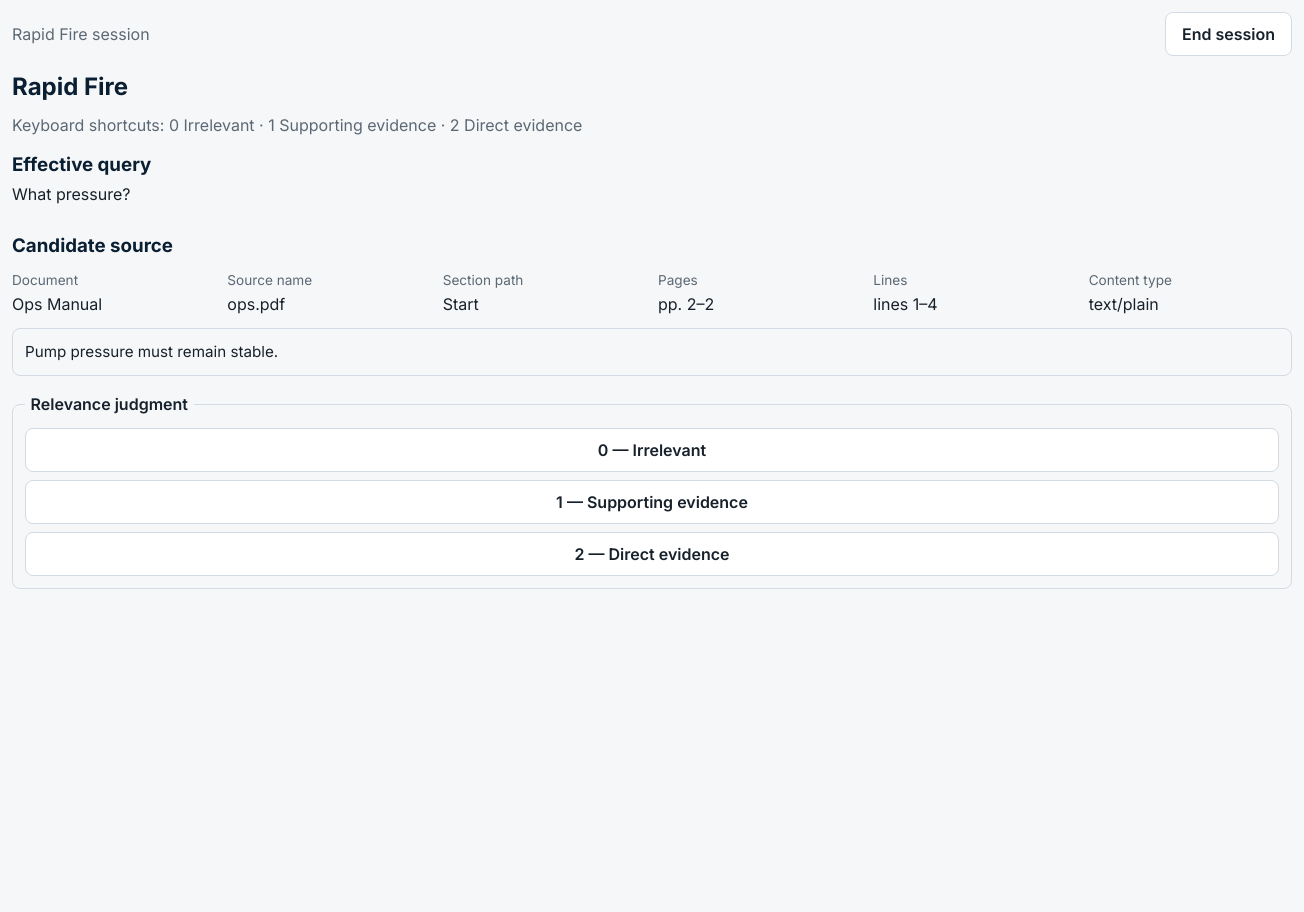
16G-I2-REWORK session latch, retry identity, blocks, QC reset › retries ambiguous commits against the frozen original task endpoint
Check: the text "What pressure?" is shown, box [12,184,130,204]
Click the button "1 — Supporting evidence": (652, 502) [25,480,1279,524]
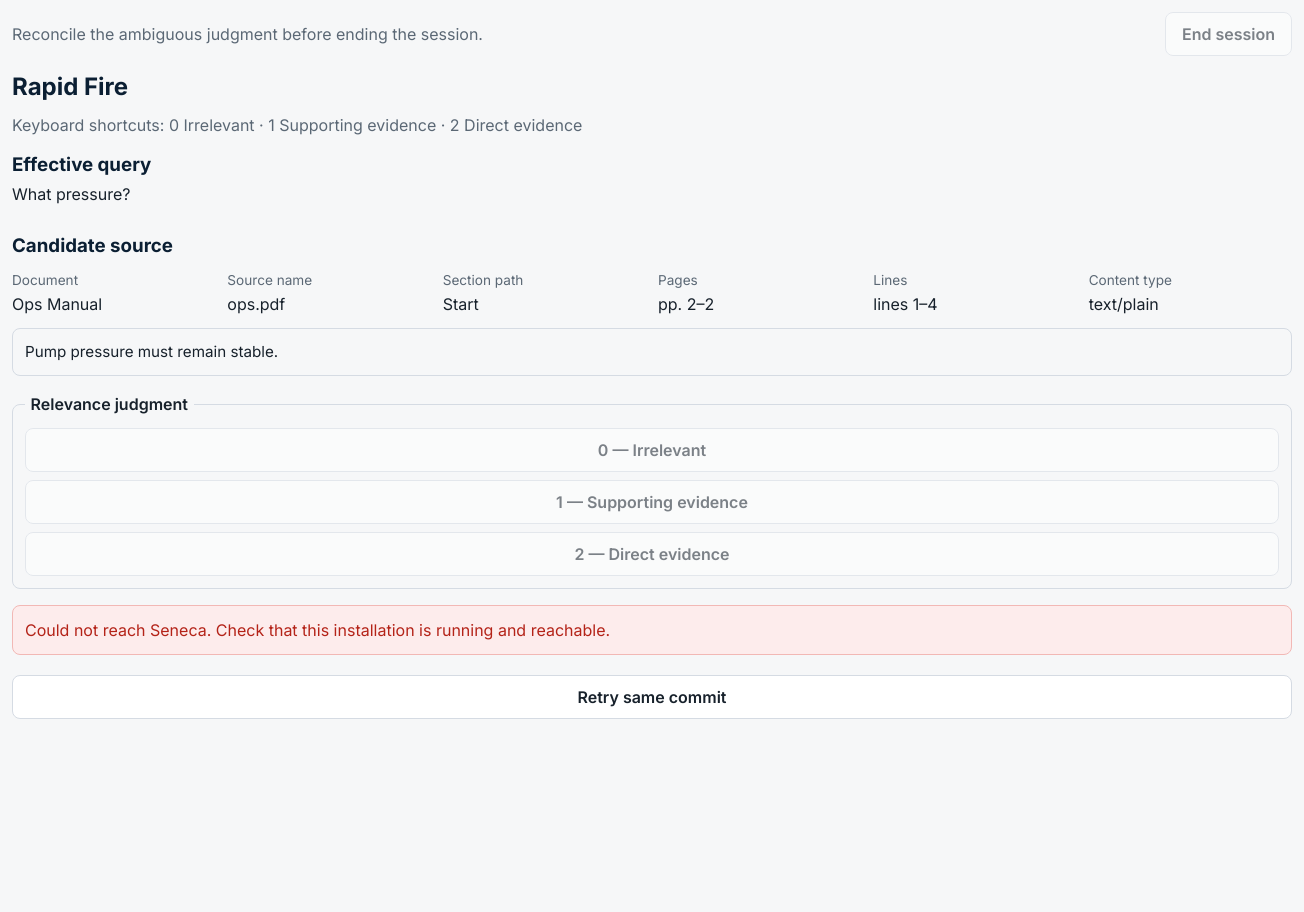
Check: the button "Retry same commit" is shown
Click the button "Retry same commit": (652, 697) [12,675,1292,719]
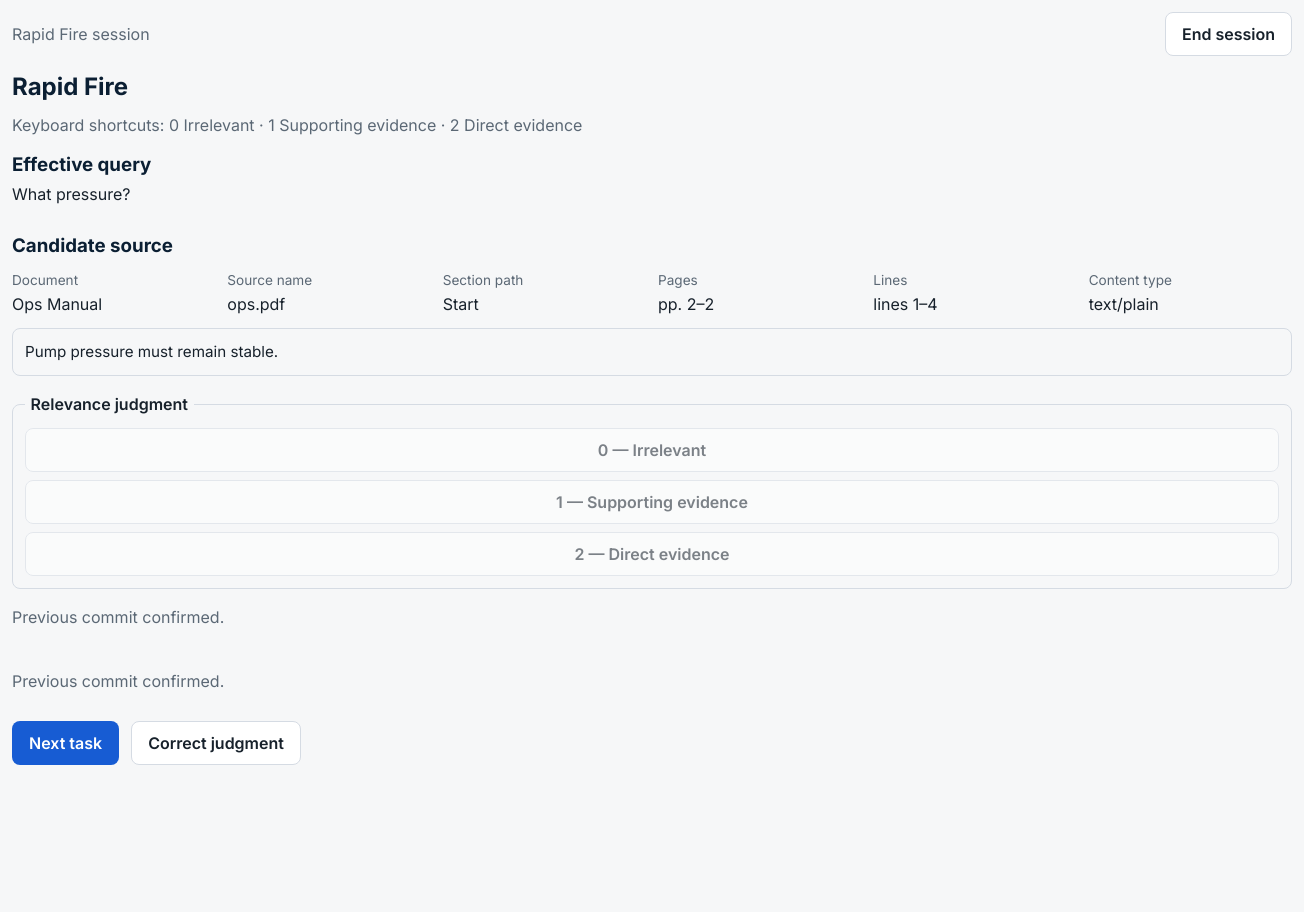
Check: the button "Correct judgment" is shown, box [131,721,301,765]
